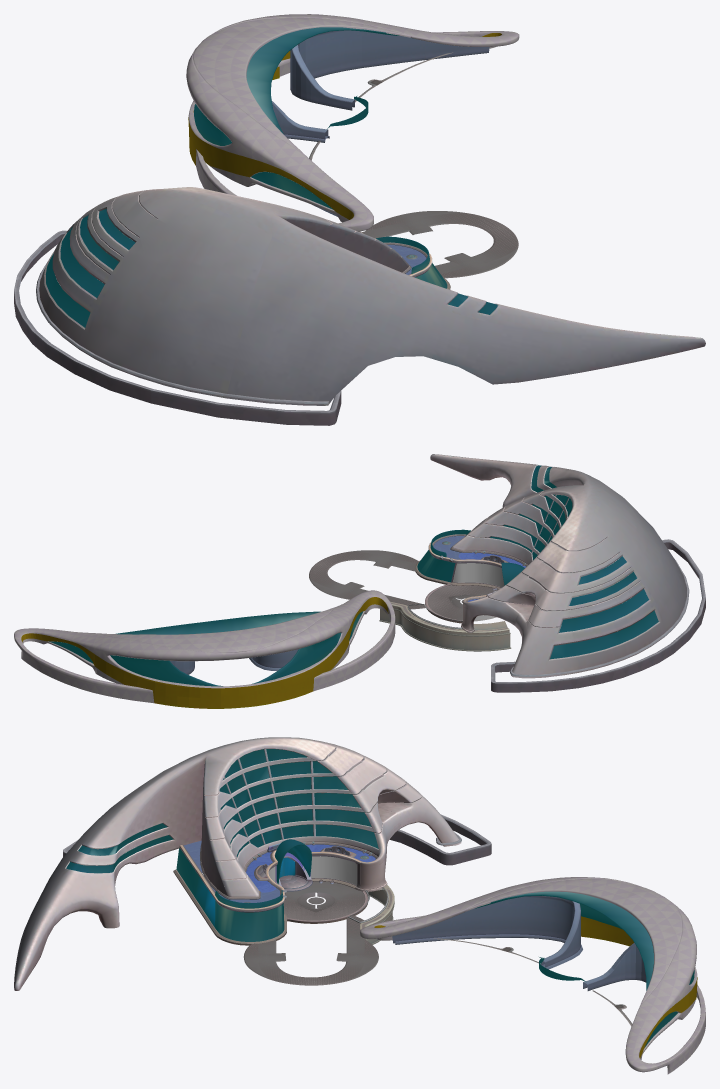
The model's file is pref_sm_beach_bk_pointmol_rightbuild_lv2.fbx.
3 renders of one model, top to bottom at view 1: azimuth 30°, elevation 25°; view 2: azimuth 150°, elevation 25°; view 3: azimuth 270°, elevation 25°, orthographic. The views are drawn at different scales.
Parts seen in each view (by area): view 1: sm_beach_bk_pointmol_rightbuild01a_lv2, sm_beach_bk_pointmol_rightbuild02a_lv2, sm_beach_bk_pointmol_rightbuild02d_lv2, sm_beach_bk_pointmol_rightbuild02b_lv2, sm_beach_bk_pointmol_rightbuild02e_lv2, sm_beach_bk_pointmol_rightbuild01b_lv2, sm_beach_bk_pointmol_rightbuild01f_lv2, sm_beach_bk_pointmol_rightbuild02c_lv2; view 2: sm_beach_bk_pointmol_rightbuild01a_lv2, sm_beach_bk_pointmol_rightbuild02b_lv2, sm_beach_bk_pointmol_rightbuild01b_lv2, sm_beach_bk_pointmol_rightbuild02a_lv2, sm_beach_bk_pointmol_rightbuild02e_lv2, sm_beach_bk_pointmol_rightbuild02d_lv2, sm_beach_bk_pointmol_rightbuild02f_lv2, sm_beach_bk_pointmol_rightbuild02c_lv2, sm_beach_bk_pointmol_rightbuild01f_lv2, sm_beach_bk_pointmol_rightbuild01d_lv2, sm_beach_bk_pointmol_rightbuild01c_lv2; view 3: sm_beach_bk_pointmol_rightbuild01a_lv2, sm_beach_bk_pointmol_rightbuild01b_lv2, sm_beach_bk_pointmol_rightbuild02b_lv2, sm_beach_bk_pointmol_rightbuild02c_lv2, sm_beach_bk_pointmol_rightbuild02a_lv2, sm_beach_bk_pointmol_rightbuild01f_lv2, sm_beach_bk_pointmol_rightbuild02e_lv2, sm_beach_bk_pointmol_rightbuild01d_lv2, sm_beach_bk_pointmol_rightbuild02d_lv2, sm_beach_bk_pointmol_rightbuild01c_lv2, sm_beach_bk_pointmol_rightbuild02f_lv2.
Boxes of the visible parts, bbox=[...] form: sm_beach_bk_pointmol_rightbuild01a_lv2: bbox=[14, 187, 705, 425]; sm_beach_bk_pointmol_rightbuild02a_lv2: bbox=[186, 47, 373, 231]; sm_beach_bk_pointmol_rightbuild02d_lv2: bbox=[272, 30, 501, 110]; sm_beach_bk_pointmol_rightbuild02b_lv2: bbox=[195, 14, 519, 76]; sm_beach_bk_pointmol_rightbuild02e_lv2: bbox=[194, 27, 399, 209]; sm_beach_bk_pointmol_rightbuild01b_lv2: bbox=[45, 209, 497, 327]; sm_beach_bk_pointmol_rightbuild01f_lv2: bbox=[362, 211, 518, 278]; sm_beach_bk_pointmol_rightbuild02c_lv2: bbox=[188, 101, 353, 219]; sm_beach_bk_pointmol_rightbuild01a_lv2: bbox=[415, 454, 705, 692]; sm_beach_bk_pointmol_rightbuild02b_lv2: bbox=[14, 628, 247, 703]; sm_beach_bk_pointmol_rightbuild01b_lv2: bbox=[417, 465, 658, 659]; sm_beach_bk_pointmol_rightbuild02a_lv2: bbox=[238, 590, 395, 691]; sm_beach_bk_pointmol_rightbuild02e_lv2: bbox=[49, 611, 363, 686]; sm_beach_bk_pointmol_rightbuild02d_lv2: bbox=[21, 633, 238, 708]; sm_beach_bk_pointmol_rightbuild02f_lv2: bbox=[379, 601, 511, 651]; sm_beach_bk_pointmol_rightbuild02c_lv2: bbox=[239, 597, 388, 707]; sm_beach_bk_pointmol_rightbuild01f_lv2: bbox=[309, 550, 425, 609]; sm_beach_bk_pointmol_rightbuild01d_lv2: bbox=[427, 585, 497, 620]; sm_beach_bk_pointmol_rightbuild01c_lv2: bbox=[453, 563, 504, 621]; sm_beach_bk_pointmol_rightbuild01a_lv2: bbox=[14, 737, 491, 990]; sm_beach_bk_pointmol_rightbuild01b_lv2: bbox=[66, 749, 378, 941]; sm_beach_bk_pointmol_rightbuild02b_lv2: bbox=[616, 890, 705, 1074]; sm_beach_bk_pointmol_rightbuild02c_lv2: bbox=[374, 896, 633, 969]; sm_beach_bk_pointmol_rightbuild02a_lv2: bbox=[360, 877, 651, 940]; sm_beach_bk_pointmol_rightbuild01f_lv2: bbox=[243, 915, 378, 985]; sm_beach_bk_pointmol_rightbuild02e_lv2: bbox=[475, 891, 694, 1046]; sm_beach_bk_pointmol_rightbuild01d_lv2: bbox=[283, 881, 365, 920]; sm_beach_bk_pointmol_rightbuild02d_lv2: bbox=[583, 943, 697, 1058]; sm_beach_bk_pointmol_rightbuild01c_lv2: bbox=[268, 856, 357, 885]; sm_beach_bk_pointmol_rightbuild02f_lv2: bbox=[348, 885, 394, 944].
Size of the model in its own units: 85.71 by 19.35 by 90.39.
